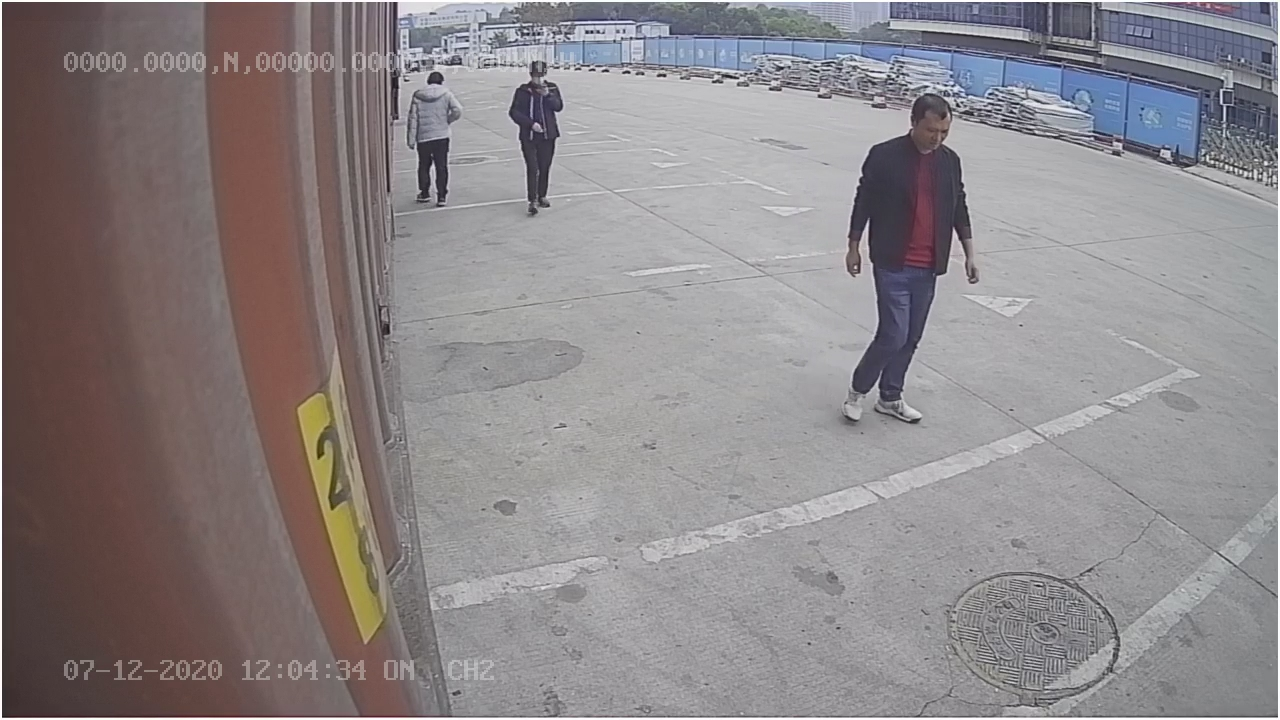person: (835, 89, 985, 426)
